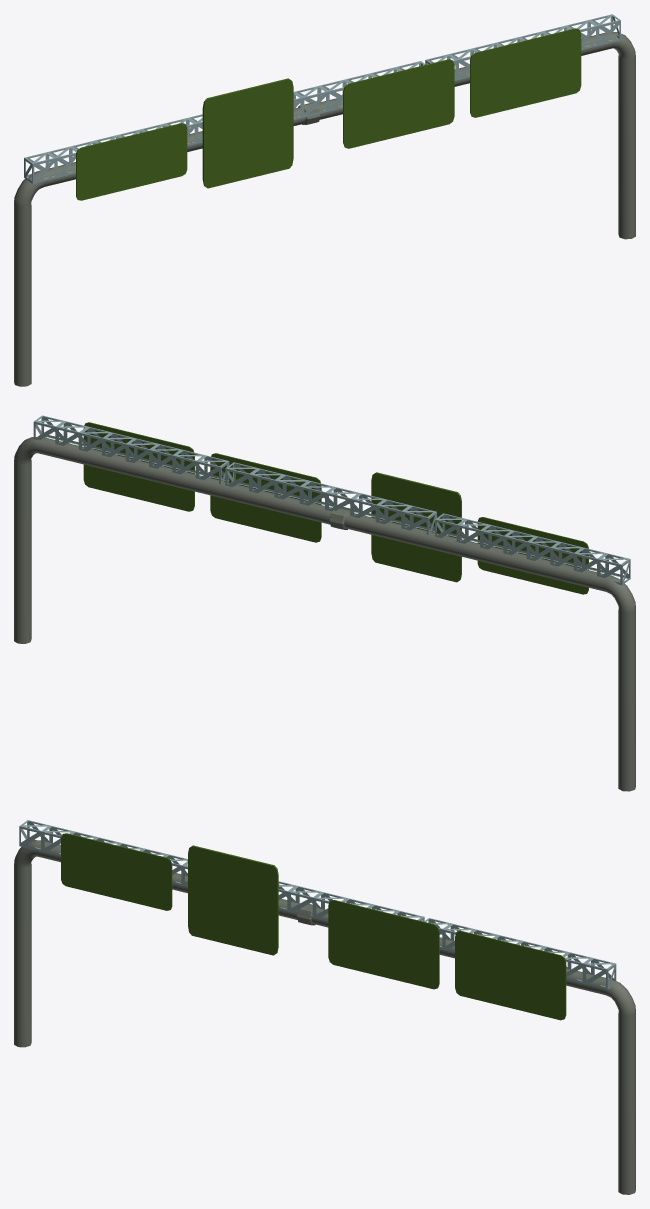
File: MOD_OverheadSign.fbx
3 renders of one model, top to bottom at view 1: azimuth 30°, elevation 25°; view 2: azimuth 150°, elevation 25°; view 3: azimuth 330°, elevation 25°, orthographic.
Parts seen in each view (by area): view 1: MOD_OverheadSign_LOD0; view 2: MOD_OverheadSign_LOD0; view 3: MOD_OverheadSign_LOD0.
Part boxes in pixels (bbox=[...]): MOD_OverheadSign_LOD0: bbox=[14, 14, 635, 386]; MOD_OverheadSign_LOD0: bbox=[14, 415, 635, 791]; MOD_OverheadSign_LOD0: bbox=[14, 820, 635, 1194].
Size of the model in its own units: 3292 by 1251 by 124.
